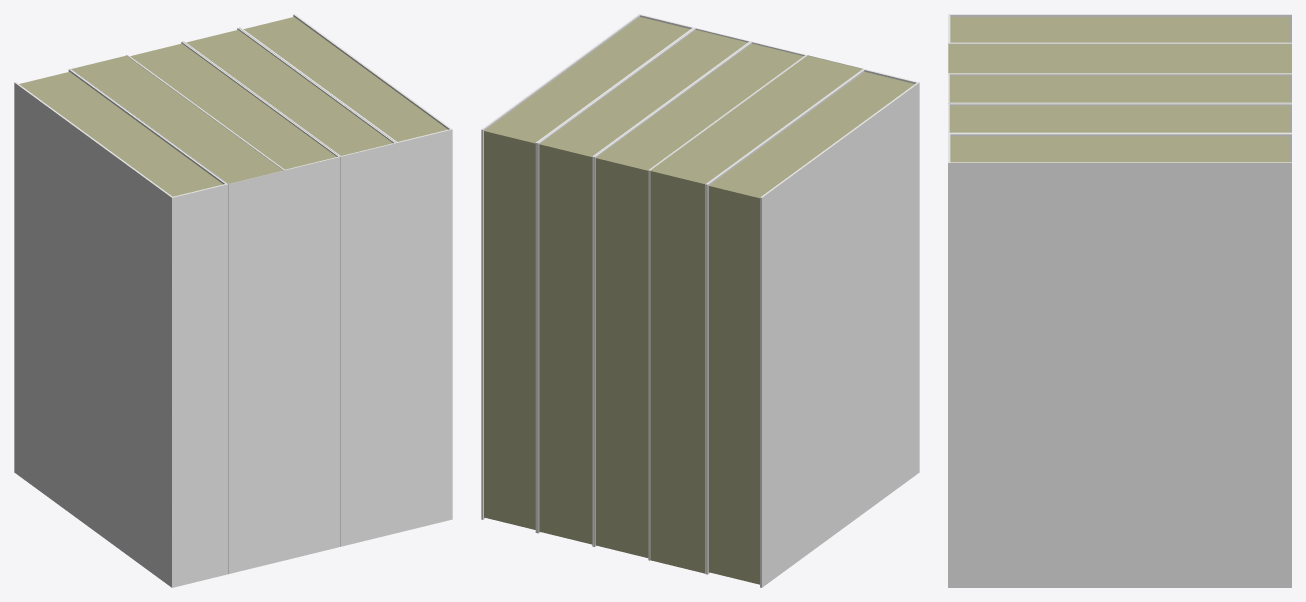
Rendered from books.fbx.
The picture shows the model from 3 angles, left to right: view 1: azimuth 30°, elevation 25°; view 2: azimuth 150°, elevation 25°; view 3: azimuth 270°, elevation 25°; orthographic projection. The views are drawn at different scales.
Visible parts, largest first — view 1: Book0, Book1, Book3, Book2, Book4; view 2: Book0, Book1, Book3, Book2, Book4; view 3: Book4, Book2, Book3, Book0, Book1.
Boxes of the visible parts, x1=… form: Book0: x1=14, y1=69, x2=227, y2=587; Book1: x1=70, y1=55, x2=284, y2=574; Book3: x1=183, y1=27, x2=396, y2=546; Book2: x1=127, y1=41, x2=340, y2=560; Book4: x1=239, y1=14, x2=452, y2=532; Book0: x1=706, y1=69, x2=919, y2=587; Book1: x1=649, y1=55, x2=863, y2=574; Book3: x1=537, y1=27, x2=750, y2=546; Book2: x1=593, y1=41, x2=806, y2=560; Book4: x1=481, y1=14, x2=694, y2=532; Book4: x1=948, y1=133, x2=1291, y2=587; Book2: x1=948, y1=73, x2=1291, y2=103; Book3: x1=948, y1=103, x2=1291, y2=133; Book0: x1=948, y1=14, x2=1291, y2=43; Book1: x1=948, y1=44, x2=1291, y2=73.
Bounding box in the file's own units: 22.58 × 30 × 22.
